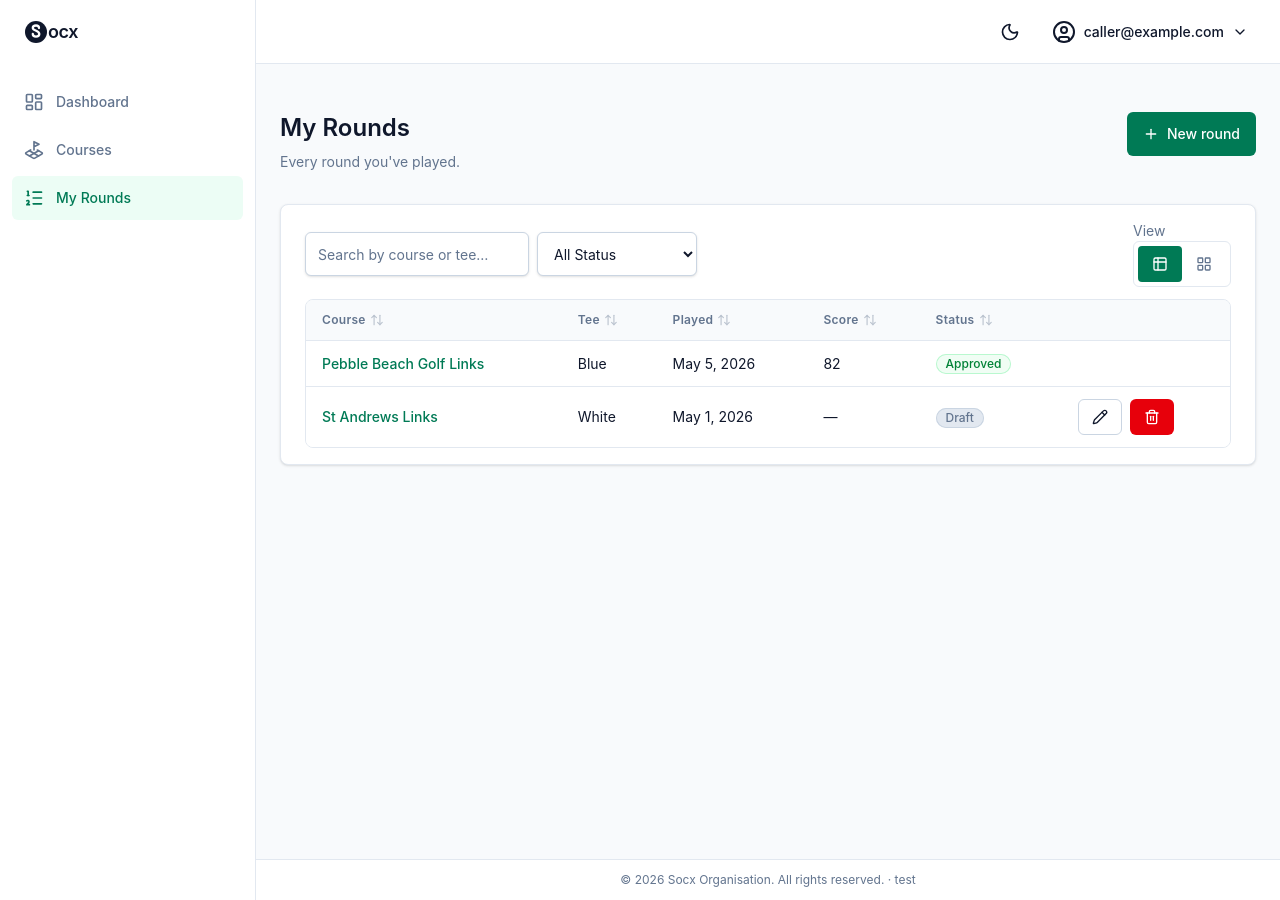
Test: MyRoundsPage › Edit navigates to the existing edit/resume screen (/rounds/:id)
Click the button named "Edit round at St Andrews Links" at (1100, 417), box x1=1078 y1=399 x2=1122 y2=435
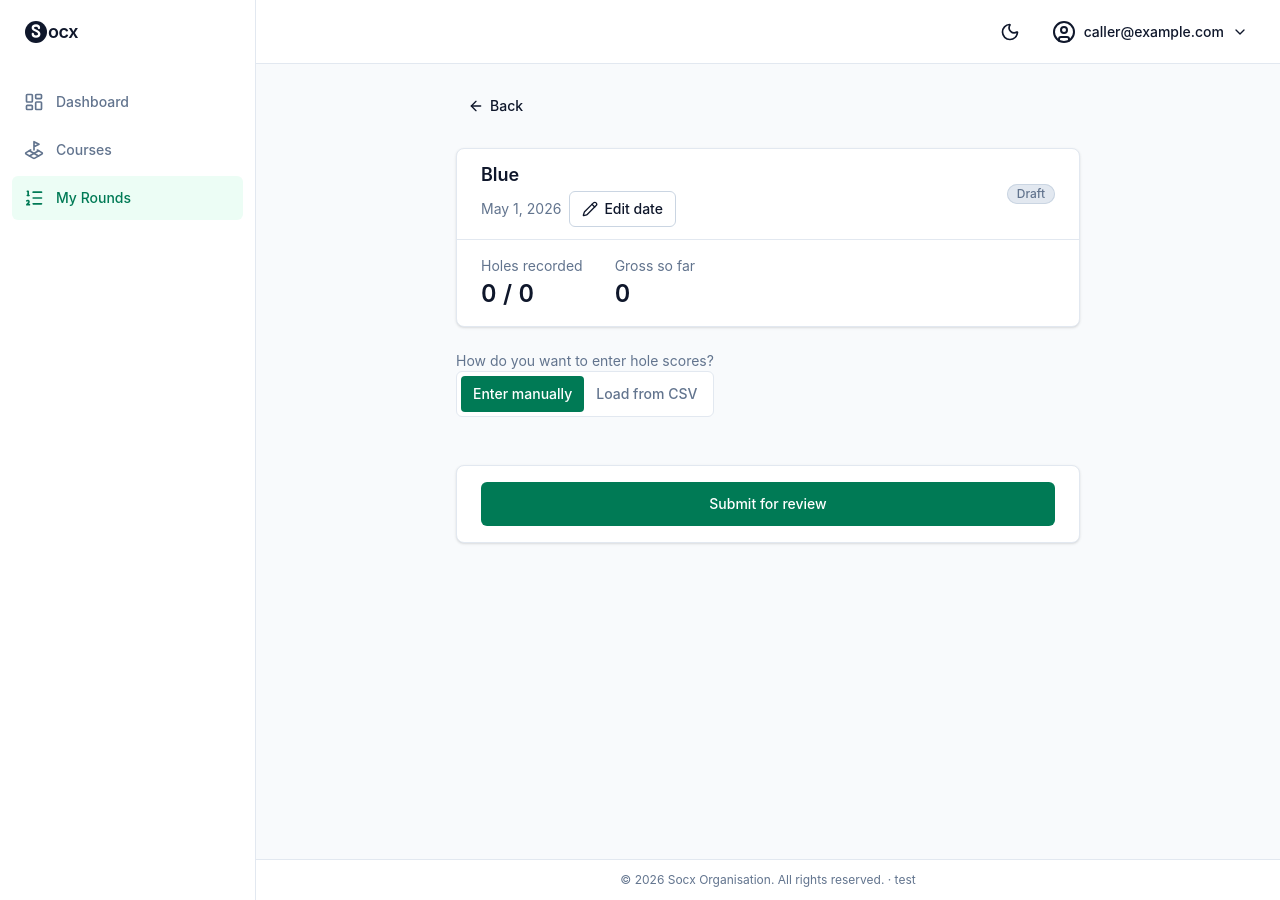
Expected: the text "Holes recorded" is shown, x1=481 y1=256 x2=583 y2=276
